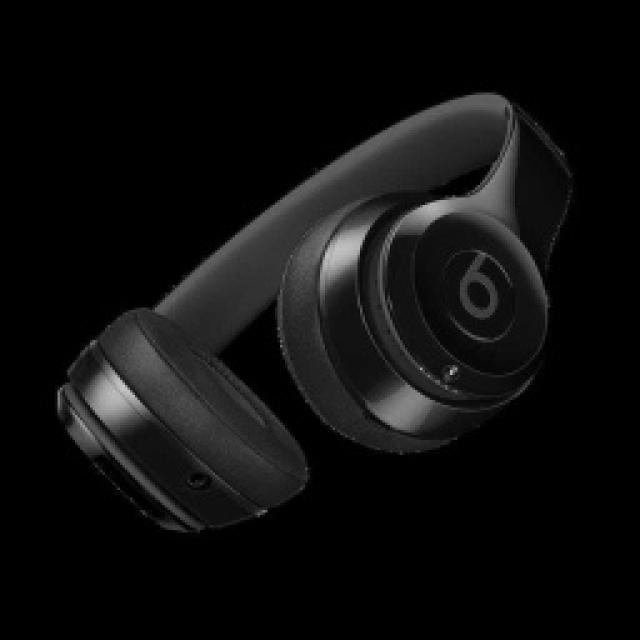headphones: (53, 87, 575, 535)
